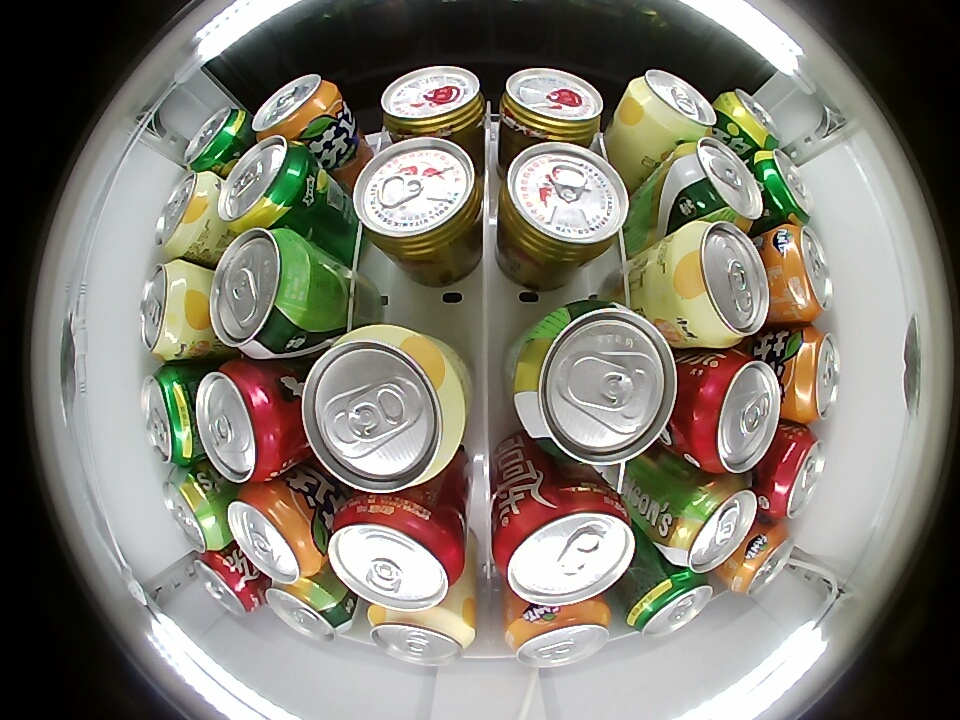fenda: (228, 485, 322, 583), (504, 601, 611, 668), (771, 224, 833, 322), (253, 73, 338, 141), (785, 327, 841, 423), (729, 523, 795, 596)
hongniu: (379, 65, 488, 139), (499, 67, 604, 141)
hongniu2: (353, 137, 483, 259), (500, 142, 628, 264)
kele: (494, 484, 637, 605), (328, 496, 466, 611), (686, 350, 782, 473), (196, 361, 289, 483), (762, 427, 826, 520), (192, 549, 261, 616)
mangguoxiaolao: (300, 324, 468, 493), (669, 220, 770, 348), (367, 604, 475, 666), (626, 69, 717, 142), (139, 259, 202, 360), (155, 172, 219, 258)
quchenshixiangcao: (512, 299, 680, 467), (210, 228, 312, 358), (666, 474, 758, 574), (673, 138, 762, 228), (265, 578, 353, 642), (162, 468, 226, 552)
xuebi2: (219, 137, 314, 230), (623, 568, 713, 638), (141, 362, 202, 465), (751, 149, 815, 225), (184, 106, 251, 173), (717, 88, 782, 150)
